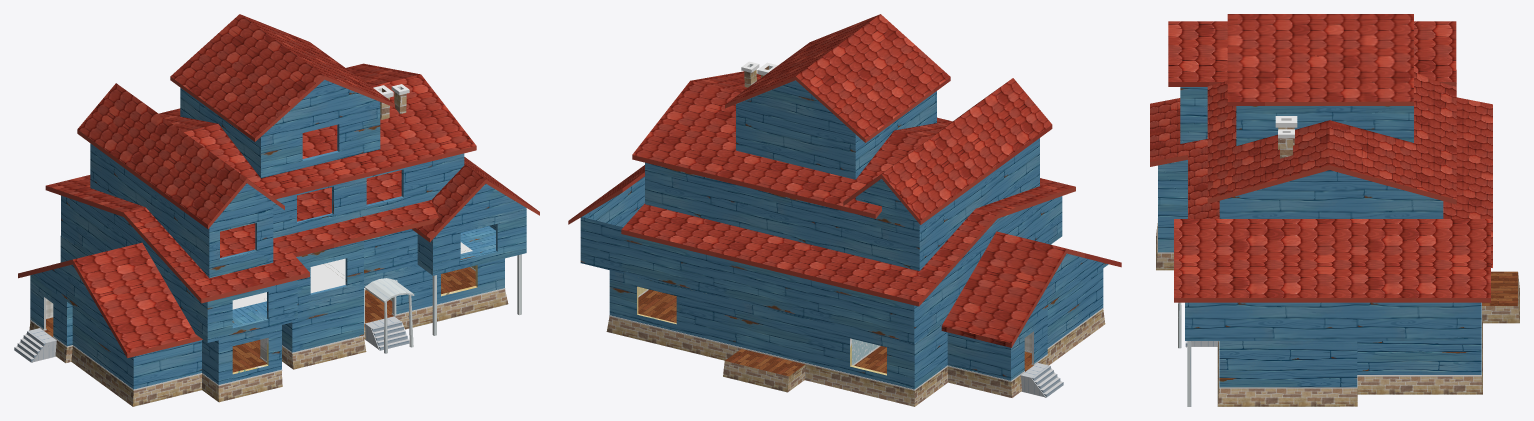
The picture shows the model from 3 angles, left to right: view 1: azimuth 30°, elevation 25°; view 2: azimuth 150°, elevation 25°; view 3: azimuth 270°, elevation 25°; orthographic projection. The views are drawn at different scales.
Parts seen in each view (by area): view 1: map_floor_2, map_floor_1; view 2: map_floor_2, map_floor_1; view 3: map_floor_2, map_floor_1.
Part boxes in pixels (x1,y1,x2,y2): map_floor_2: [18, 14, 539, 358]; map_floor_1: [14, 236, 521, 406]; map_floor_2: [568, 14, 1121, 347]; map_floor_1: [606, 268, 1105, 406]; map_floor_2: [1150, 14, 1492, 340]; map_floor_1: [1156, 211, 1519, 406].
Bounding box in the file's own units: 2926 × 1768 × 1986.
Materials: 8 (8 with a texture image).
